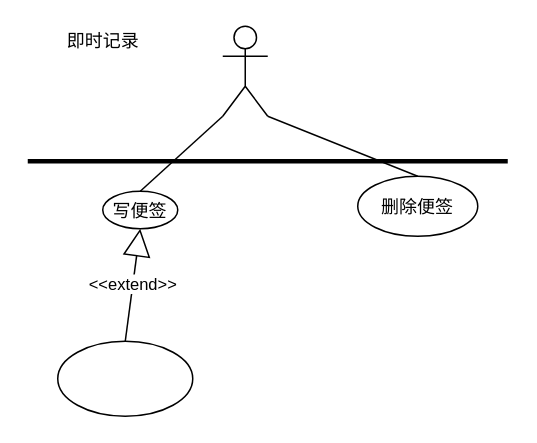
The diagram is 537 pixels wide and 443 high, and some of its shapes have lost their labels. Each missing label, with the centre of its shape:
"Actor" goes at (244,70).
"新建便签" goes at (124,378).
